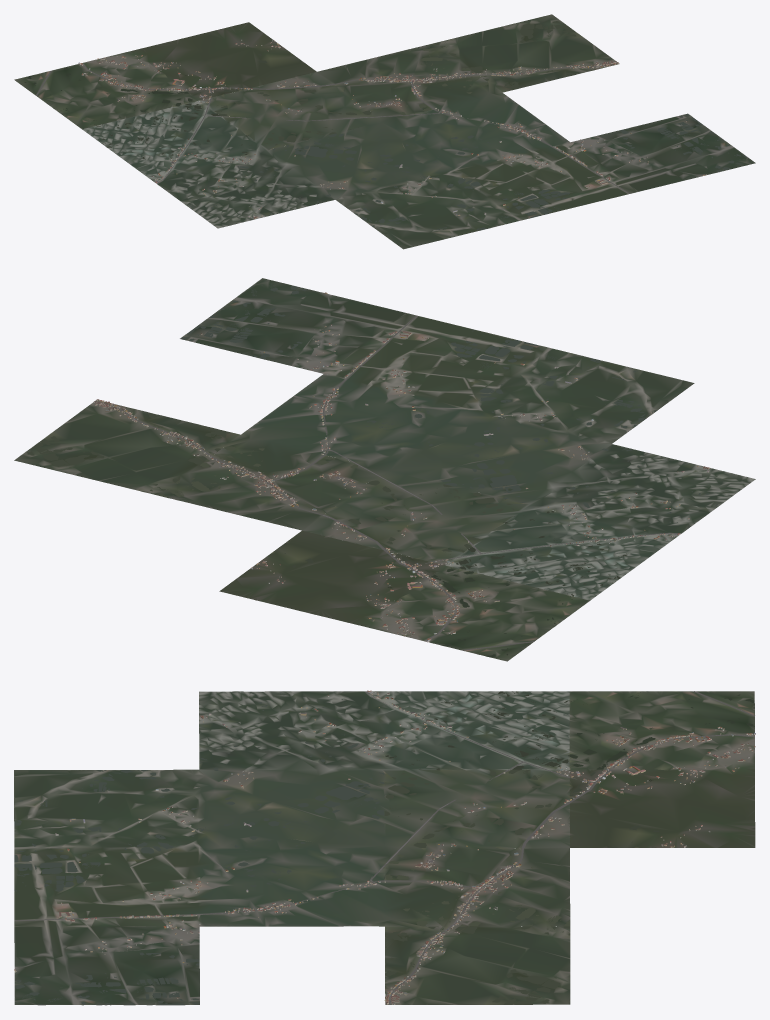
3 renders of one model, top to bottom at view 1: azimuth 30°, elevation 25°; view 2: azimuth 150°, elevation 25°; view 3: azimuth 270°, elevation 25°, orthographic. The views are drawn at different scales.
Parts seen in each view (by area): view 1: ground, water, buildings, roads; view 2: ground, water, buildings, roads; view 3: ground, water, buildings, roads.
Part boxes in pixels (x1,y1,x2,y2): ground: (14, 14, 755, 249); water: (24, 21, 746, 237); buildings: (78, 39, 706, 218); roads: (36, 62, 629, 193); ground: (14, 278, 755, 661); water: (27, 283, 717, 657); buildings: (93, 292, 709, 642); roads: (95, 315, 681, 650); ground: (14, 691, 755, 1005); water: (14, 691, 754, 1004); buildings: (14, 690, 755, 1004); roads: (14, 691, 754, 1004).
Bounding box in the file's own units: 5624 × 23.34 × 5615.
